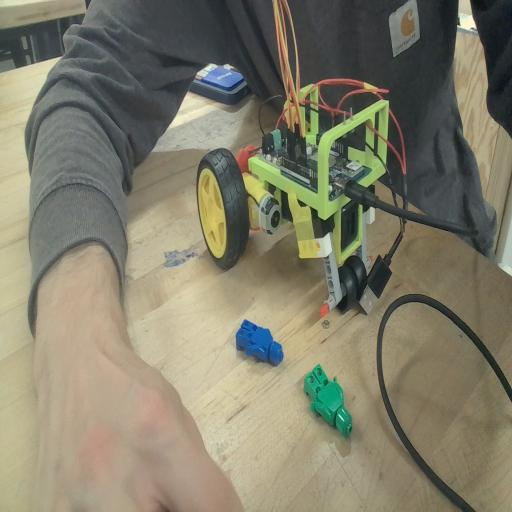blue LEGO minifig: (232, 313, 286, 370)
green LEGO minifig: (302, 360, 355, 444)
